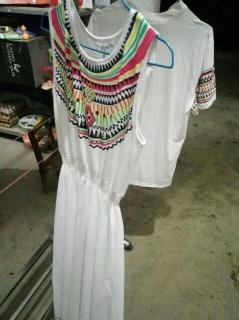short sleeve top: (62, 0, 217, 188)
vest: (48, 0, 160, 319)
